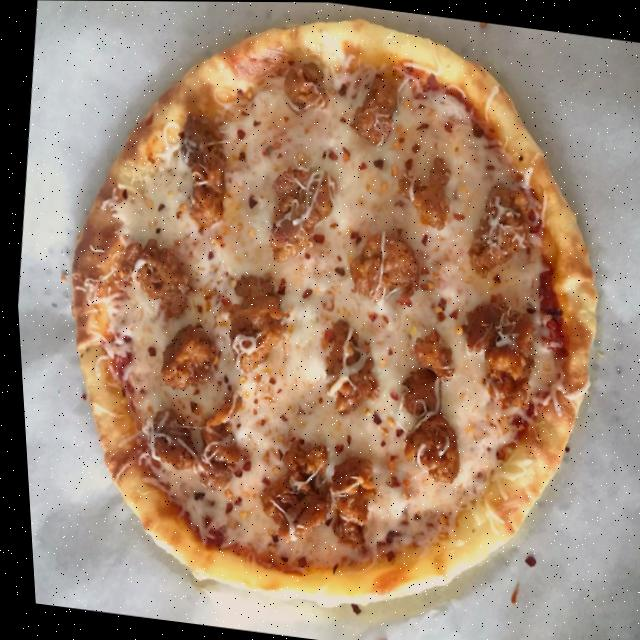pizza: (19, 0, 640, 636)
